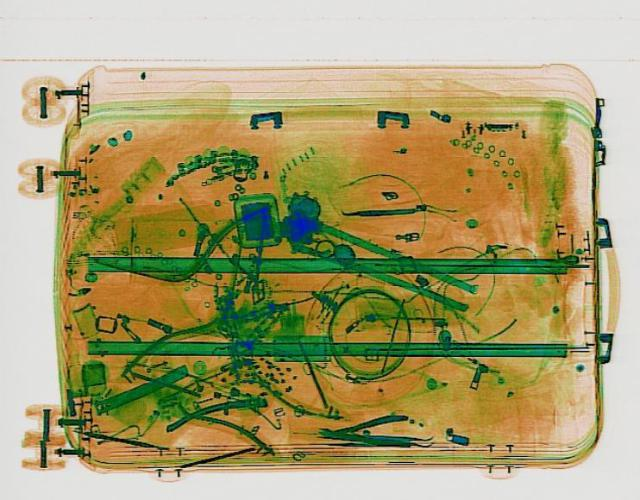Pliers: (314, 412, 408, 449)
